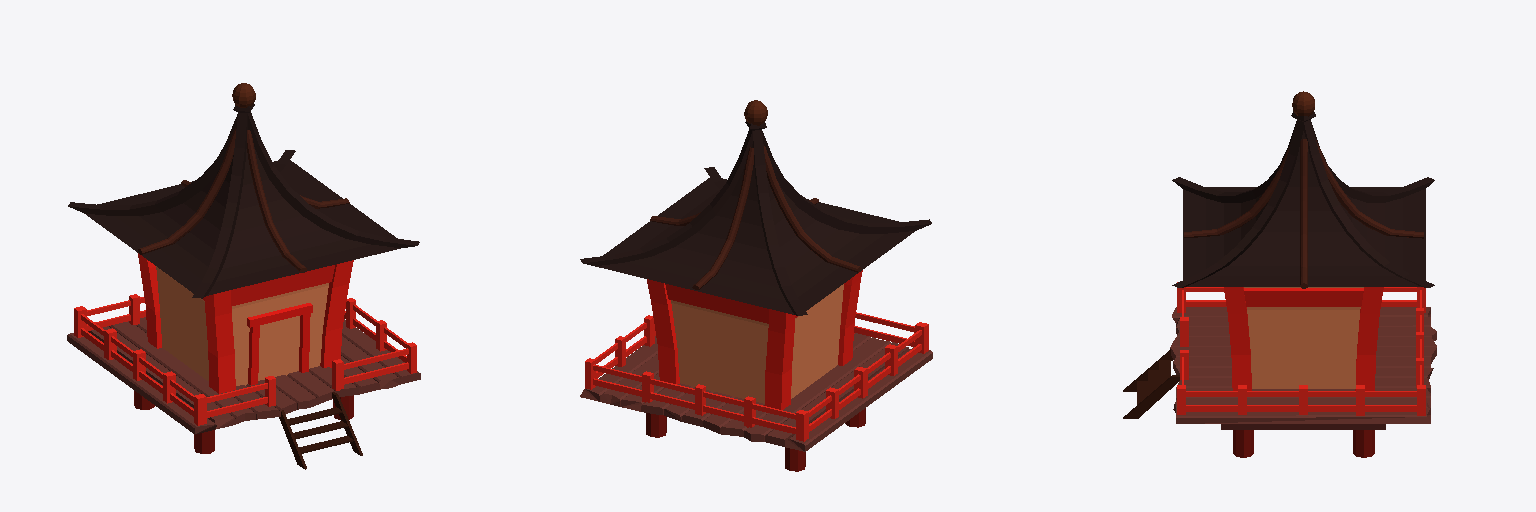
Rendered from hut.obj.
3 views of the same model, side by side, from view 1: azimuth 30°, elevation 25°; view 2: azimuth 150°, elevation 25°; view 3: azimuth 270°, elevation 25° (orthographic).
Parts seen in each view (by area): view 1: pPlane5, pCube12, pCube17, pCube46, pCube19, pCylinder10, pCube52, pCube28, pCube29, pCylinder5; view 2: pPlane5, pCube17, pCube12, pCube46, pCube19, pCylinder10, pCube29, pCylinder5; view 3: pPlane5, pCube12, pCube17, pCube46, pCube19, pCylinder10, pCube29, pCube52, pCylinder5, pCube18.
Part boxes in pixels (x1,y1,x2,y2): pPlane5: (68, 104, 419, 298); pCube12: (67, 317, 420, 434); pCube17: (156, 266, 328, 385); pCube46: (74, 294, 416, 425); pCube19: (138, 253, 353, 393); pCylinder10: (138, 128, 349, 272); pCube52: (279, 392, 362, 469); pCube28: (247, 303, 312, 385); pCube29: (203, 265, 334, 305); pCylinder5: (134, 391, 353, 453); pPlane5: (580, 121, 931, 315); pCube17: (671, 284, 843, 403); pCube12: (580, 333, 932, 451); pCube46: (585, 312, 928, 441); pCube19: (647, 270, 862, 409); pCylinder10: (650, 146, 861, 289); pCube29: (665, 284, 797, 323); pCylinder5: (646, 408, 865, 471); pPlane5: (1172, 111, 1434, 287); pCube12: (1170, 307, 1436, 423); pCube17: (1244, 287, 1363, 388); pCube46: (1177, 282, 1425, 415); pCube19: (1224, 287, 1383, 390); pCylinder10: (1184, 139, 1423, 288); pCube29: (1244, 288, 1363, 306); pCube52: (1123, 349, 1179, 418); pCylinder5: (1233, 430, 1374, 457); pCube18: (1221, 424, 1385, 429).
Bounding box in the file's own units: 13.14 × 17.98 × 15.67.